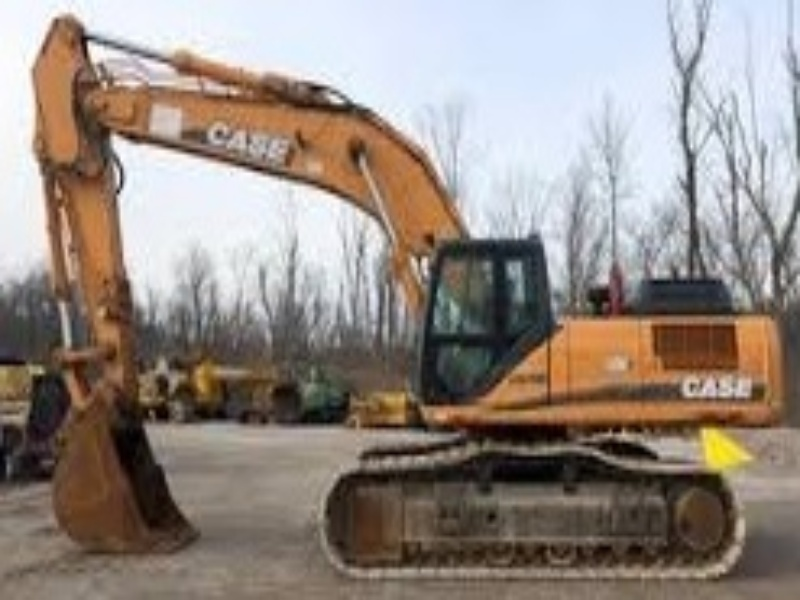wajueji: (286, 121, 800, 597)
